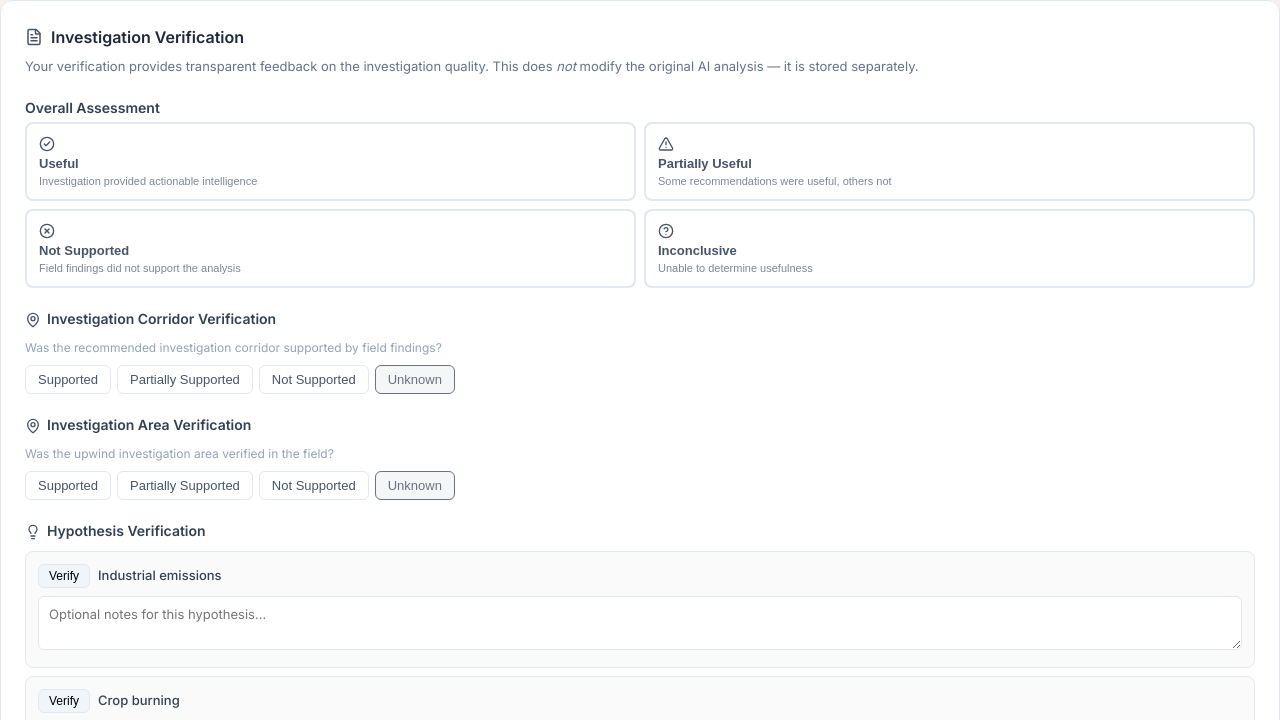
Test case: InvestigationVerification › allows toggling hypothesis verification
The image size is (1280, 720).
Click the button "Verify" next to "Industrial emissions" at (64, 576), box 38,564 -> 90,588
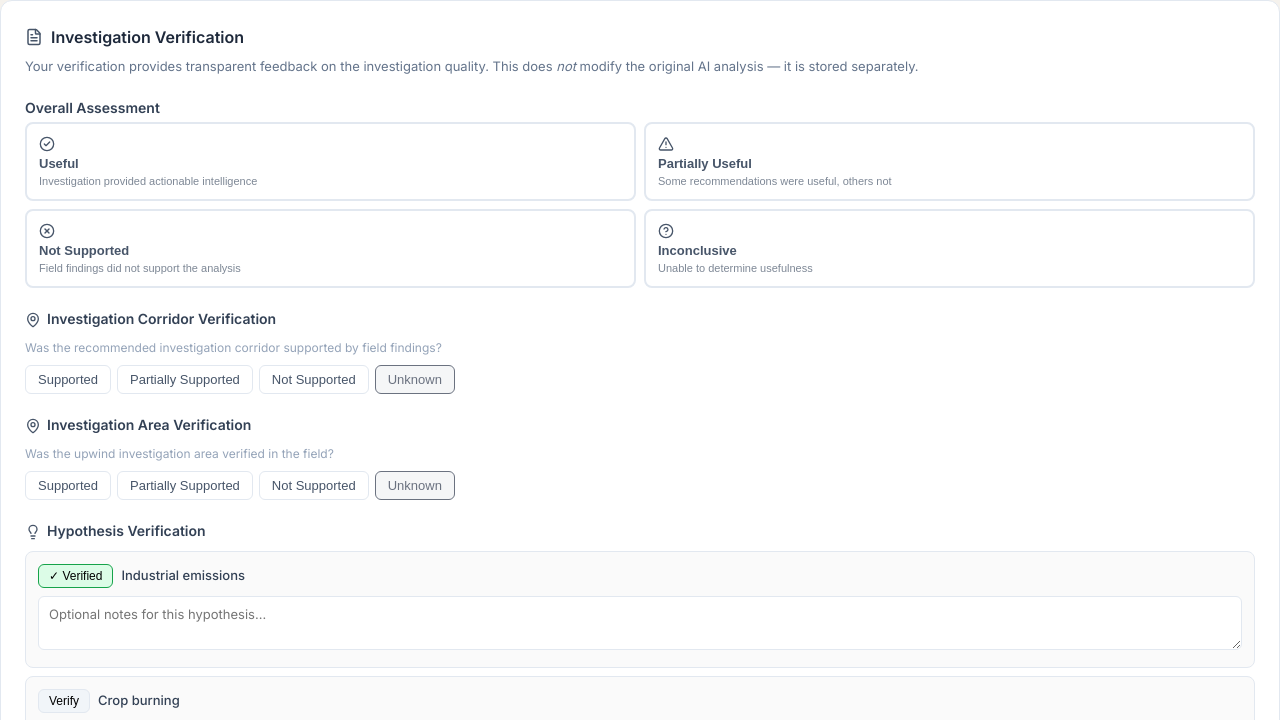
Expected: the button "✓ Verified" is shown, 38,564 -> 113,588
